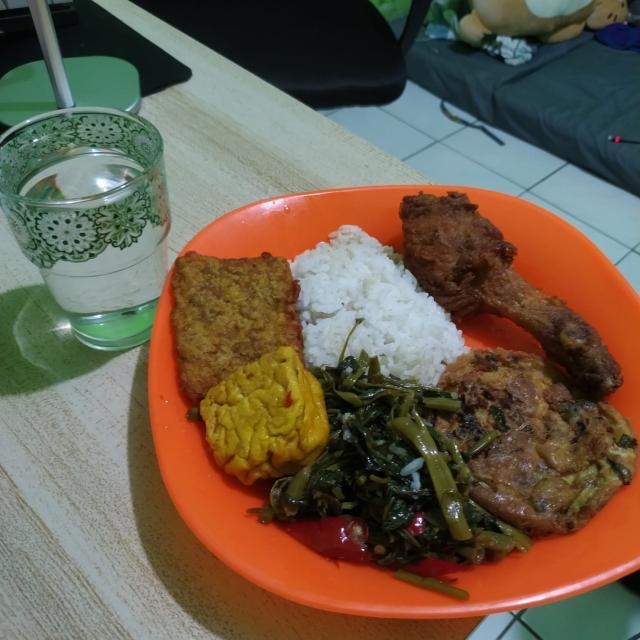ayam_goreng: (390, 157, 615, 381)
nasi_putih: (263, 168, 492, 394)
telur_ayam_dadar: (403, 296, 634, 534)
